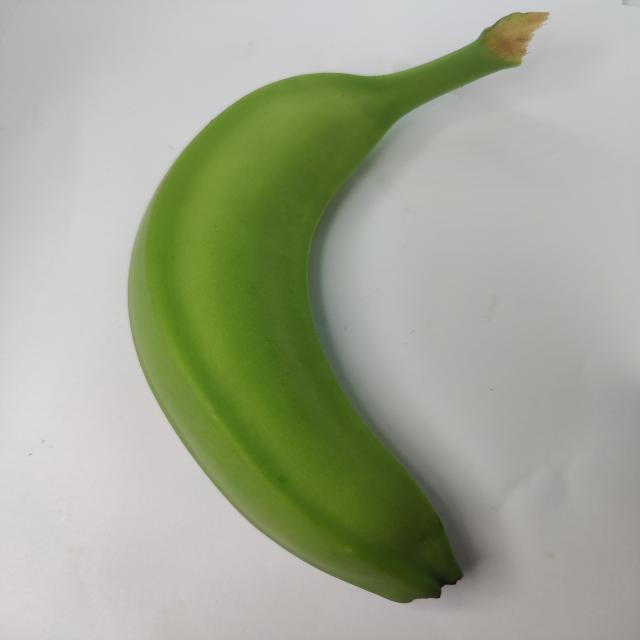Raw: (83, 0, 554, 602)
